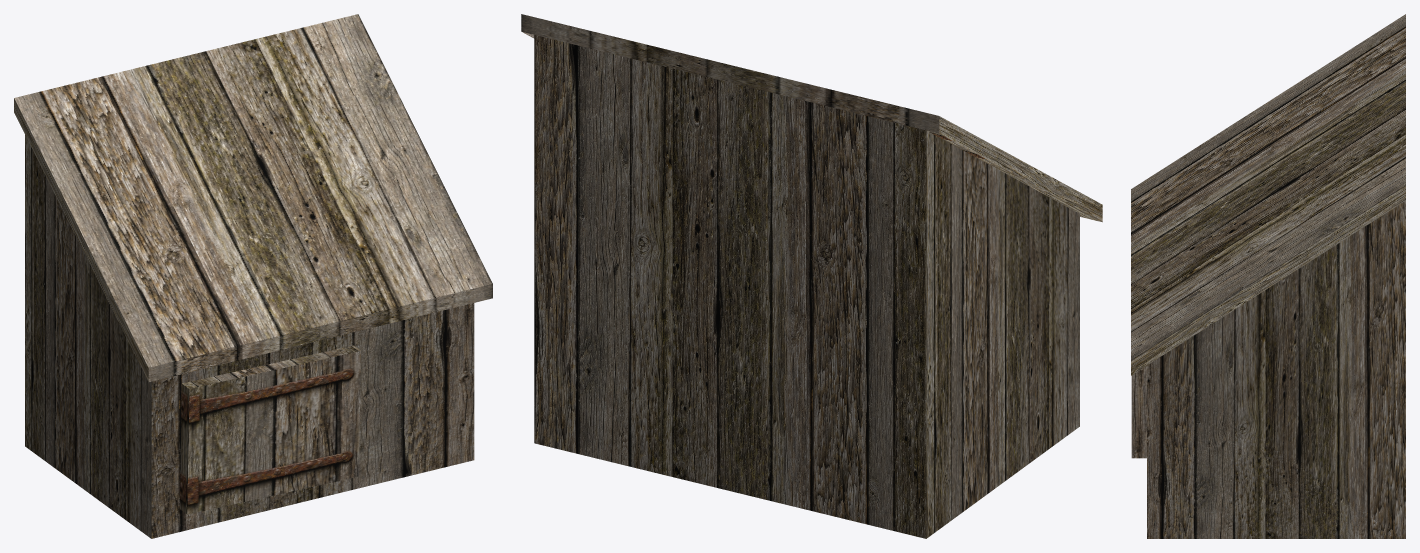
Rendered from mm9_deco_woodshed02.glb.
3 views of the same model, side by side, from view 1: azimuth 30°, elevation 25°; view 2: azimuth 150°, elevation 25°; view 3: azimuth 270°, elevation 25° (orthographic). The views are drawn at different scales.
Parts seen in each view (by area): view 1: Woodshed02; view 2: Woodshed02; view 3: Woodshed02.
Boxes of the visible parts, x1,y1,x2,y2 form: Woodshed02: [14, 14, 492, 538]; Woodshed02: [521, 14, 1102, 538]; Woodshed02: [1131, 14, 1405, 538].
Size of the model in its own units: 3.63 by 3.53 by 2.45.
Materials: 2 (2 with a texture image).
